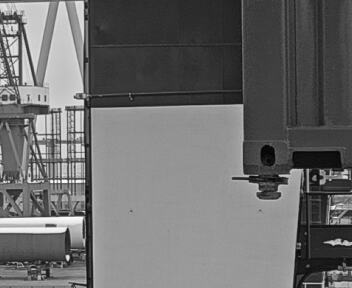twist_lock_1: (242, 168, 292, 211)
